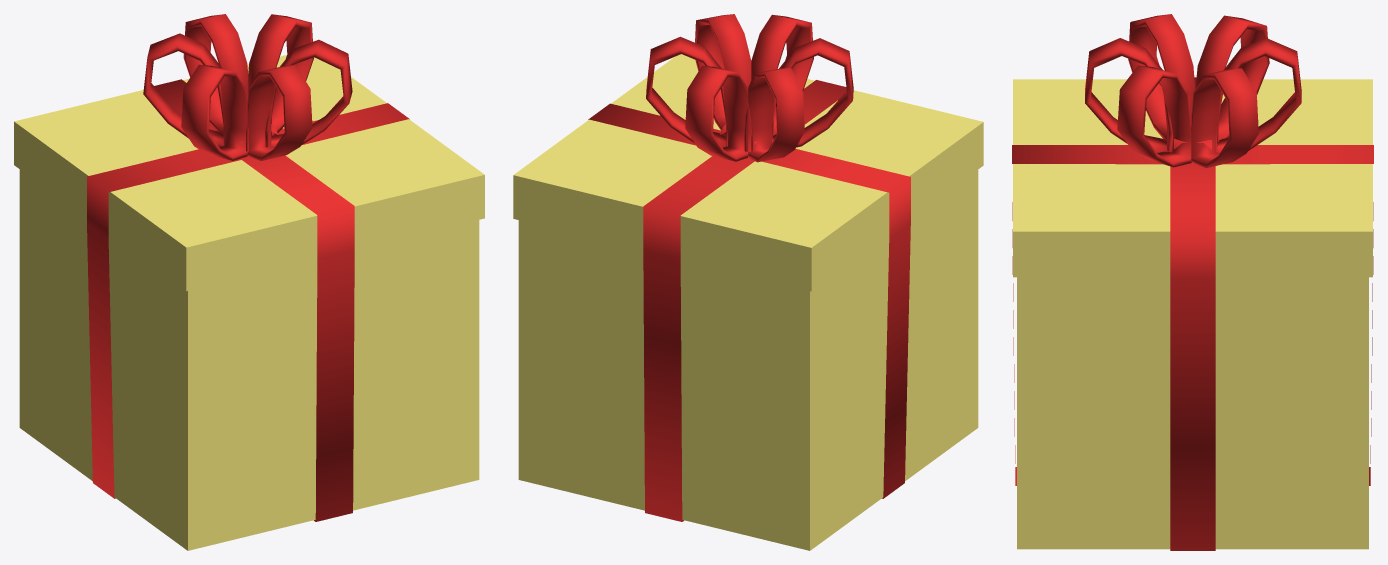
File: preboxrib08270112yellow.fbx
3 views of the same model, side by side, from view 1: azimuth 30°, elevation 25°; view 2: azimuth 150°, elevation 25°; view 3: azimuth 270°, elevation 25° (orthographic). The views are drawn at different scales.
Visible parts, largest first — view 1: Cube, 平面; view 2: Cube, 平面; view 3: Cube, 平面.
Boxes of the visible parts, left/top/right/bottom form: Cube: left=14, top=55, right=484, bottom=550; 平面: left=87, top=14, right=409, bottom=521; Cube: left=513, top=54, right=983, bottom=550; 平面: left=588, top=14, right=910, bottom=521; Cube: left=1013, top=79, right=1372, bottom=549; 平面: left=1012, top=14, right=1373, bottom=550.
Size of the model in its own units: 207 by 271 by 206.
